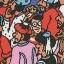waldo: (25, 11, 42, 34)
